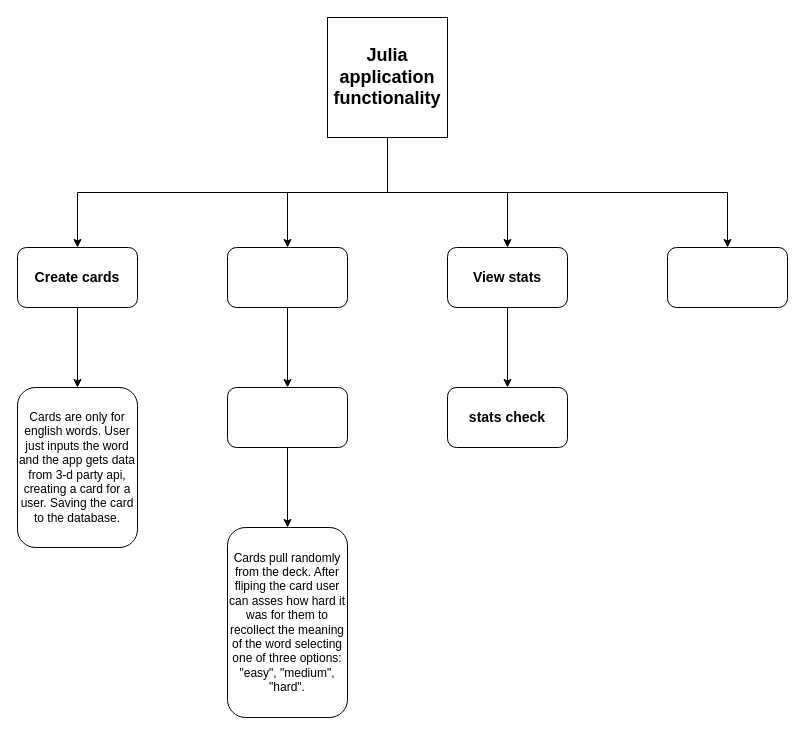
The diagram is 805 pixels wide and 735 high, and some of its shapes have lost their labels. Here are the shapes that lost their labels. From the top down, the centre of each, then its label:
At point (287, 277): "Learn cards".
At point (727, 277): "Test yourself".
At point (287, 417): "User can crate decks of cards.".
